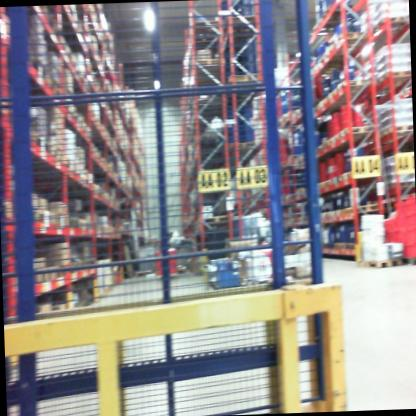pallet: (219, 8, 263, 39), (326, 29, 363, 60), (187, 16, 222, 47), (336, 121, 376, 148), (336, 72, 372, 100), (357, 255, 403, 274), (371, 71, 411, 88), (381, 121, 413, 139), (399, 257, 416, 270)
small_load_carrier: (382, 228, 403, 250), (396, 191, 415, 214), (382, 216, 401, 231), (401, 241, 416, 257), (401, 214, 415, 229), (401, 228, 416, 241)
